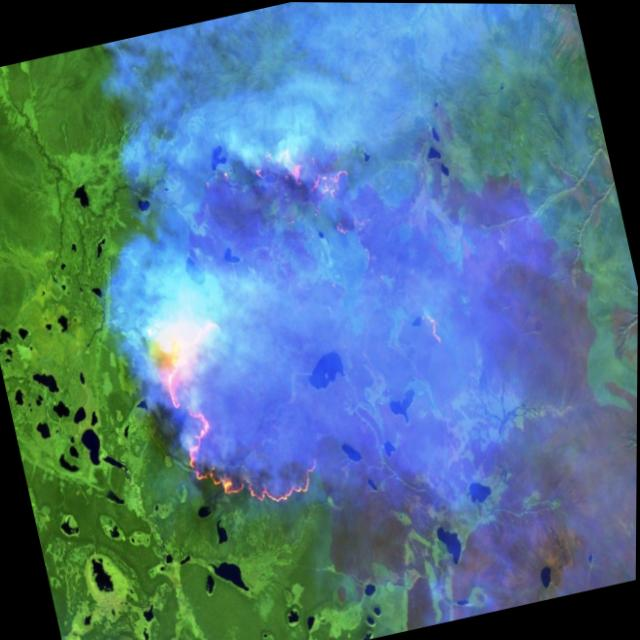fire: (90, 83, 481, 545)
